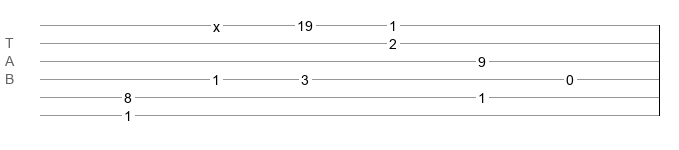0: (566, 72, 574, 82)
1: (124, 108, 132, 118), (212, 72, 220, 82), (389, 18, 397, 28), (478, 90, 486, 100)
19: (297, 18, 313, 28)
2: (389, 36, 397, 46)
3: (301, 72, 309, 82)
8: (124, 90, 132, 100)
9: (478, 54, 486, 64)
x: (213, 19, 220, 27)
